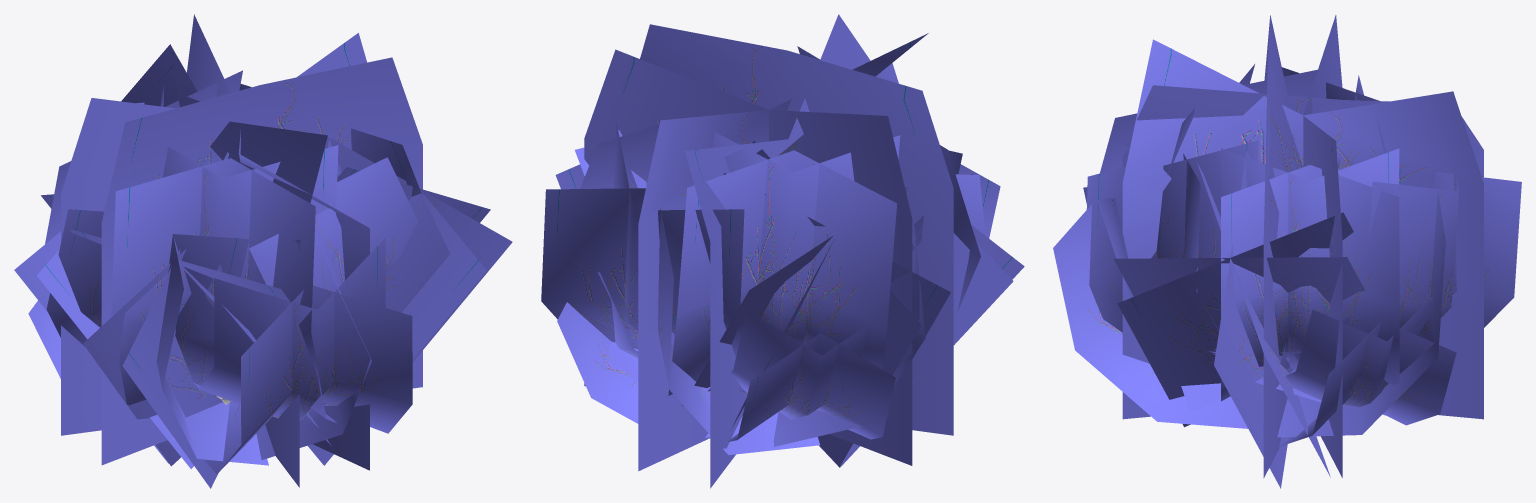
Rendered from Bush_Dead00.fbx.
The picture shows the model from 3 angles, left to right: view 1: azimuth 30°, elevation 25°; view 2: azimuth 150°, elevation 25°; view 3: azimuth 270°, elevation 25°; orthographic projection. The views are drawn at different scales.
Parts seen in each view (by area): view 1: Lavender_bush12, Lavender_bush10, Lavender_bush07, Lavender_bush08, Lavender_bush02, Lavender_bush01, Lavender_bush09, Lavender_bush00, Lavender_bush11, Lavender_bush05, Lavender_bush04; view 2: Lavender_bush12, Lavender_bush05, Lavender_bush06, Lavender_bush04, Lavender_bush00, Lavender_bush03, Lavender_bush01, Lavender_bush08, Lavender_bush11, Lavender_bush07, Lavender_bush10, Lavender_bush02; view 3: Lavender_bush12, Lavender_bush02, Lavender_bush11, Lavender_bush06, Lavender_bush03, Lavender_bush09, Lavender_bush10, Lavender_bush07, Lavender_bush01, Lavender_bush05.
Boxes of the visible parts, box(x1,y1,x2,y2) form: Lavender_bush12: box(61, 14, 422, 487); Lavender_bush10: box(193, 237, 412, 474); Lavender_bush07: box(111, 145, 338, 422); Lavender_bush08: box(46, 209, 268, 465); Lavender_bush02: box(299, 136, 512, 465); Lavender_bush01: box(69, 152, 331, 488); Lavender_bush09: box(205, 157, 417, 459); Lavender_bush00: box(14, 194, 193, 469); Lavender_bush11: box(239, 84, 422, 196); Lavender_bush05: box(45, 70, 242, 441); Lavender_bush04: box(28, 300, 60, 378); Lavender_bush12: box(584, 14, 953, 488); Lavender_bush05: box(668, 132, 900, 395); Lavender_bush06: box(541, 121, 819, 454); Lavender_bush04: box(728, 311, 895, 441); Lavender_bush00: box(682, 140, 950, 467); Lavender_bush03: box(557, 272, 710, 437); Lavender_bush01: box(708, 174, 1024, 467); Lavender_bush08: box(773, 174, 985, 446); Lavender_bush11: box(580, 117, 682, 382); Lavender_bush07: box(797, 46, 980, 382); Lavender_bush10: box(948, 150, 1000, 238); Lavender_bush02: box(555, 130, 710, 377); Lavender_bush12: box(1122, 15, 1483, 478); Lavender_bush02: box(1113, 151, 1365, 488); Lavender_bush11: box(1221, 148, 1399, 401); Lavender_bush06: box(1213, 171, 1521, 437); Lavender_bush03: box(1279, 294, 1456, 446); Lavender_bush09: box(1086, 140, 1321, 402); Lavender_bush10: box(1053, 187, 1289, 428); Lavender_bush07: box(1100, 64, 1317, 350); Lavender_bush01: box(1181, 363, 1293, 410); Lavender_bush05: box(1282, 67, 1386, 153).
Size of the model in its own units: 133 by 115 by 130.
